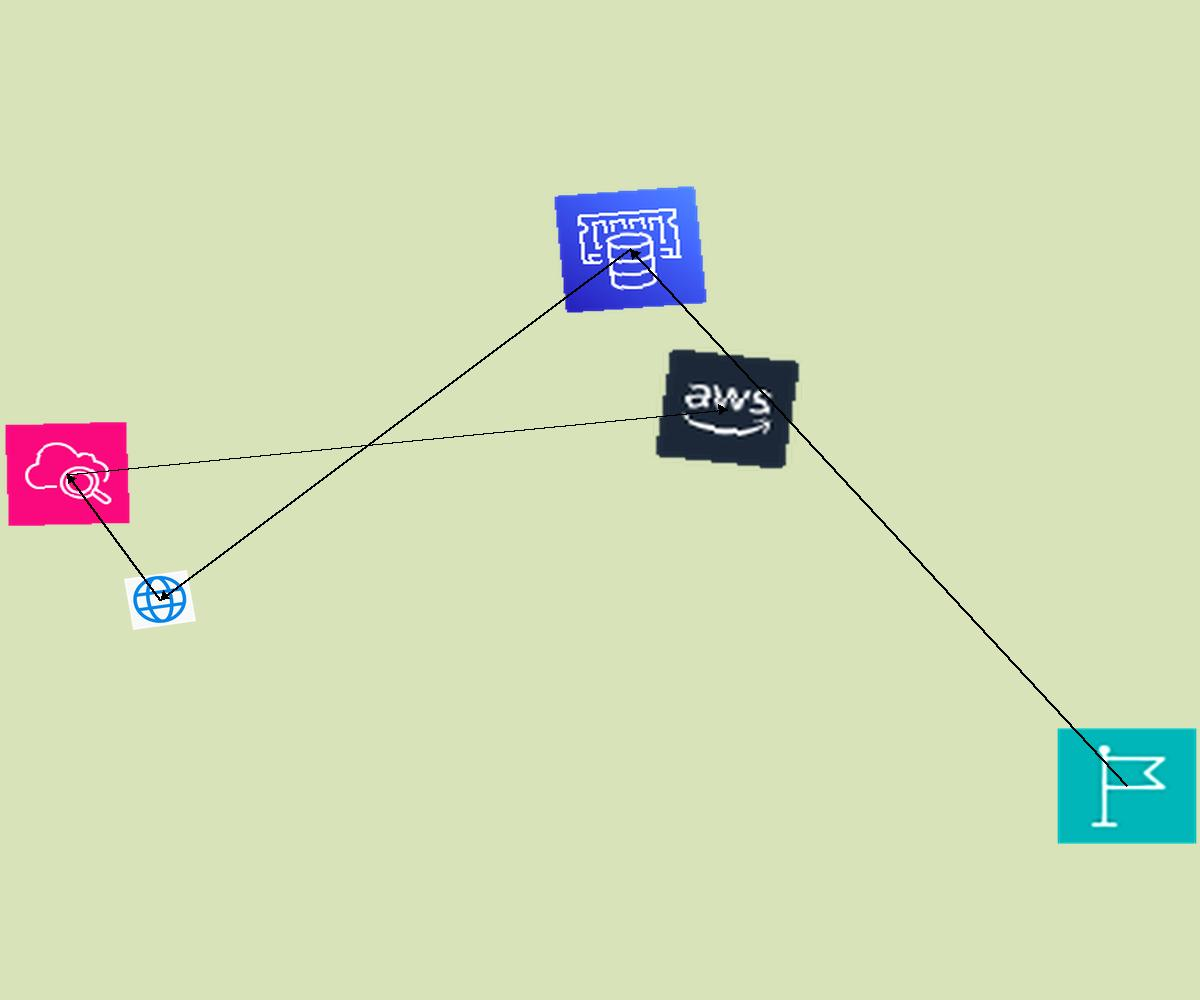AWS-Cloud-logo: (653, 347, 802, 471)
AWS-CloudWatch: (4, 421, 131, 527)
AWS-ElastiCache: (553, 185, 708, 314)
AWS-Region: (1056, 727, 1198, 845)
Azure_http: (124, 570, 196, 630)
